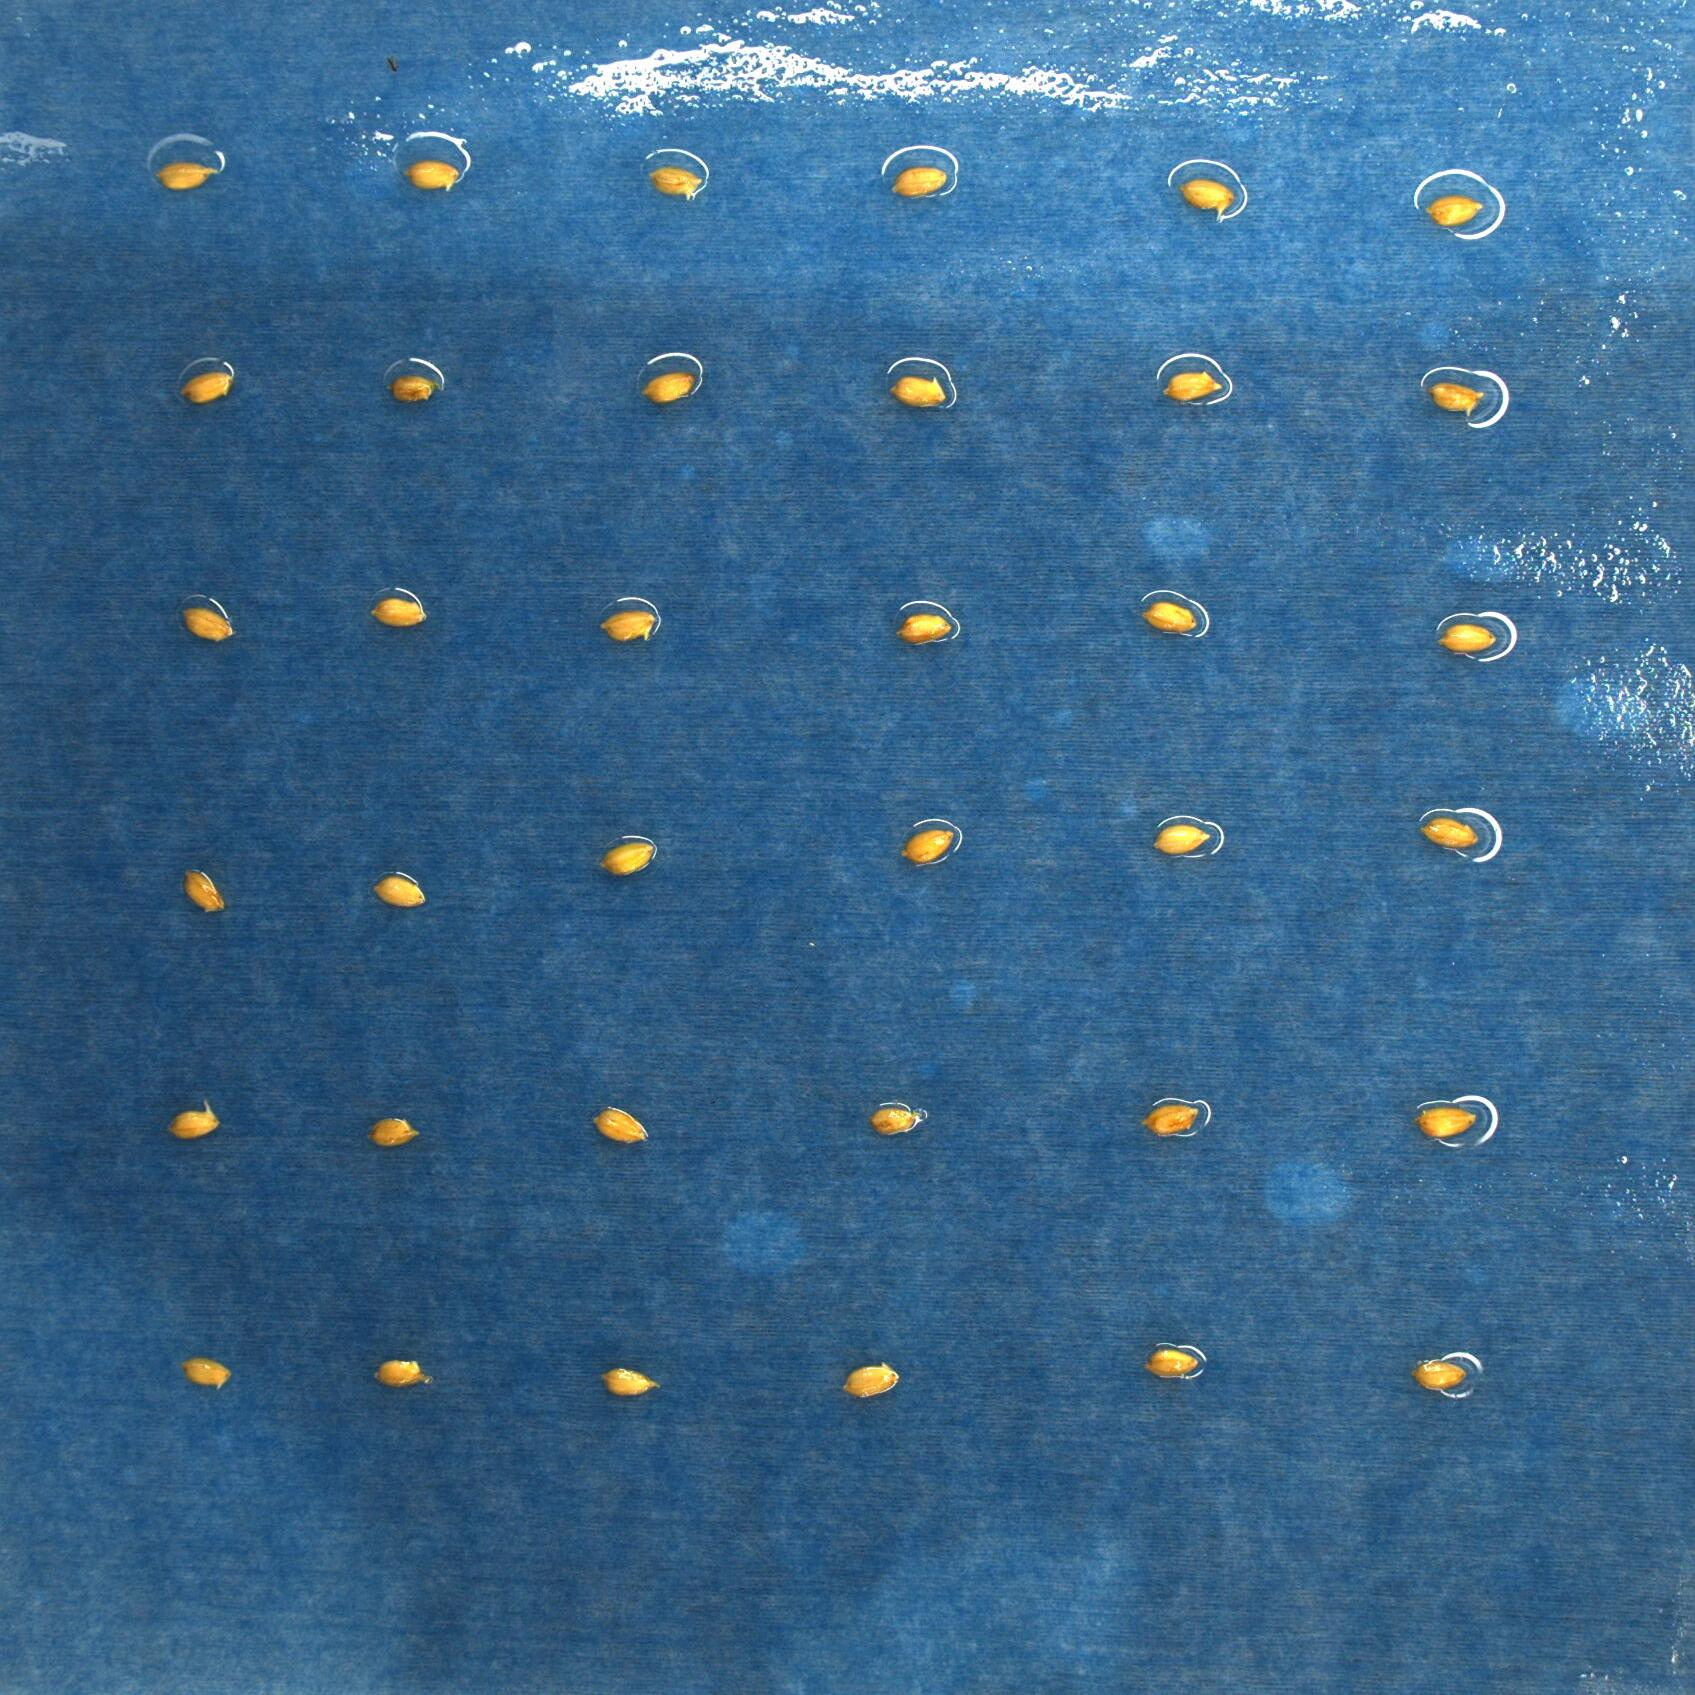not sprout: (894, 823, 955, 872), (1420, 376, 1489, 419), (1177, 177, 1236, 227), (147, 158, 219, 199), (1417, 818, 1479, 860), (1136, 1101, 1203, 1139), (885, 371, 948, 411), (840, 1360, 903, 1400), (1434, 622, 1499, 661), (1406, 1355, 1468, 1395), (1135, 1344, 1205, 1380), (1419, 194, 1485, 231), (594, 838, 655, 879), (886, 165, 955, 200), (594, 605, 660, 643), (1136, 602, 1201, 640), (366, 594, 428, 633), (1149, 823, 1211, 861), (591, 1107, 649, 1149), (633, 371, 700, 407), (397, 155, 456, 194), (166, 1099, 220, 1141), (893, 615, 955, 650), (368, 872, 427, 910), (1412, 1108, 1479, 1141), (366, 1355, 433, 1388), (598, 1366, 664, 1399), (647, 166, 705, 203), (1156, 373, 1222, 405), (177, 368, 231, 407), (182, 869, 228, 914), (868, 1104, 927, 1138), (180, 605, 234, 641), (383, 371, 439, 405), (368, 1118, 421, 1152), (180, 1355, 231, 1389)
